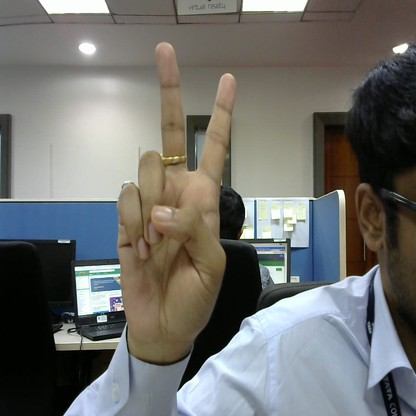v: (113, 37, 238, 351)
